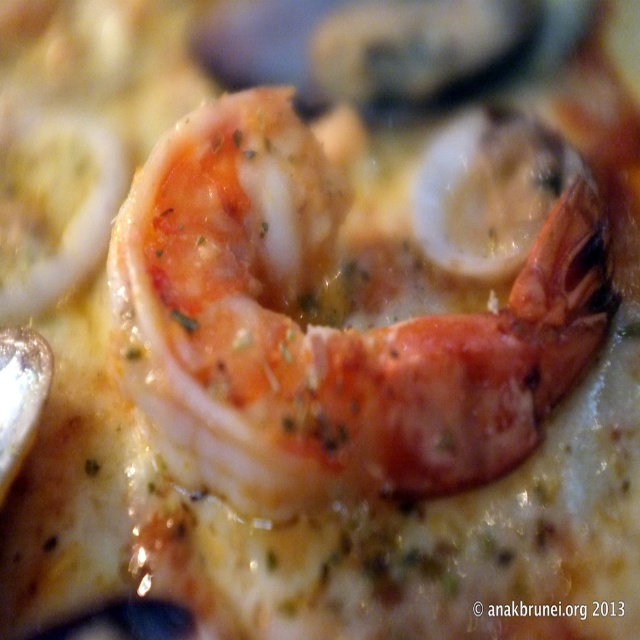Shrimp: (106, 80, 621, 526)
